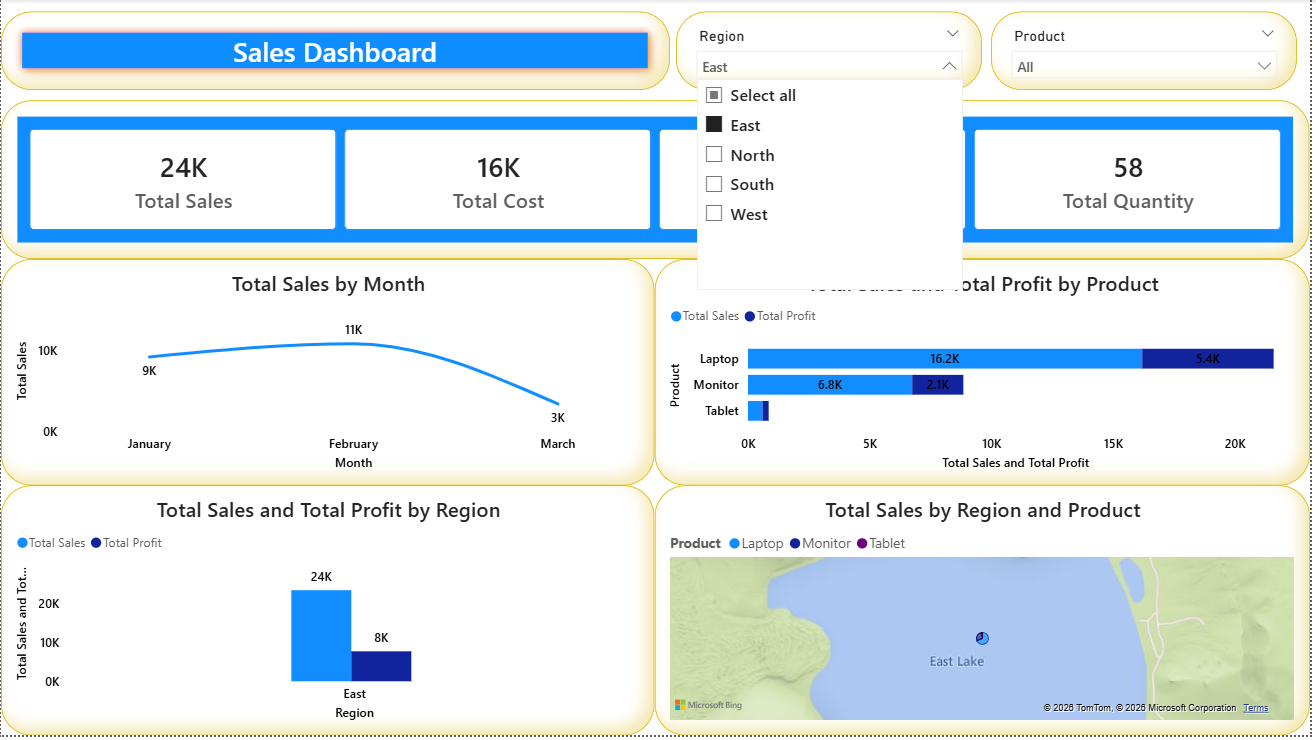

Layout of this report page (visuals, bound fields, positions):
{"tool":"powerbi","page":{"name":"Sales_Dashboard","canvas":[1280,720],"ordinal":0},"visuals":[{"type":"shape","box":[0,12.2,654.2,77],"z":0},{"type":"cardVisual","fields":{"Data":["Dax_Table (2).Total Sales","Dax_Table (2).Total Cost ","Dax_Table (2).Total Profit","Dax_Table (2).Total Quantity"]},"box":[0,99,1280.3,155.3],"z":1000},{"type":"lineChart","fields":{"Category":["Sales_Data.Date.Variation.Date Hierarchy.Month"],"Y":["Dax_Table (2).Total Sales"]},"box":[0,254.3,639.5,221.3],"z":2000},{"type":"clusteredColumnChart","fields":{"Y":["Dax_Table (2).Total Sales","Dax_Table (2).Total Profit"],"Category":["Sales_Data.Region"]},"box":[0,475.7,639.5,244.6],"z":3000},{"type":"barChart","fields":{"Category":["Sales_Data.Product"],"Y":["Dax_Table (2).Total Sales","Dax_Table (2).Total Profit"]},"box":[639.5,254.3,640.8,221.3],"z":4000},{"type":"map","fields":{"Category":["Sales_Data.Region"],"Size":["Dax_Table (2).Total Sales"],"Series":["Sales_Data.Product"]},"box":[639.5,475.7,640.8,244.6],"z":5000},{"type":"slicer","fields":{"Values":["Sales_Data.Region"]},"box":[660.3,12.2,299.6,77],"z":5001},{"type":"slicer","fields":{"Values":["Sales_Data.Product"]},"box":[968.5,12.2,299.6,77],"z":5002}]}

Visuals, with their boxes in screenshot pixels (x1, y1, x2, y2), scaled from the page's 1280x720 canvas onto the 1316x740 screenshot:
shape: x1=0 y1=13 x2=673 y2=92
cardVisual - Dax_Table (2).Total Sales x Dax_Table (2).Total Cost : x1=0 y1=102 x2=1315 y2=261
lineChart - Sales_Data.Date.Variation.Date Hierarchy.Month x Dax_Table (2).Total Sales: x1=0 y1=261 x2=657 y2=489
clusteredColumnChart - Dax_Table (2).Total Sales x Dax_Table (2).Total Profit: x1=0 y1=489 x2=657 y2=739
barChart - Sales_Data.Product x Dax_Table (2).Total Sales: x1=657 y1=261 x2=1315 y2=489
map - Sales_Data.Region x Dax_Table (2).Total Sales: x1=657 y1=489 x2=1315 y2=739
slicer - Sales_Data.Region: x1=679 y1=13 x2=987 y2=92
slicer - Sales_Data.Product: x1=996 y1=13 x2=1304 y2=92
